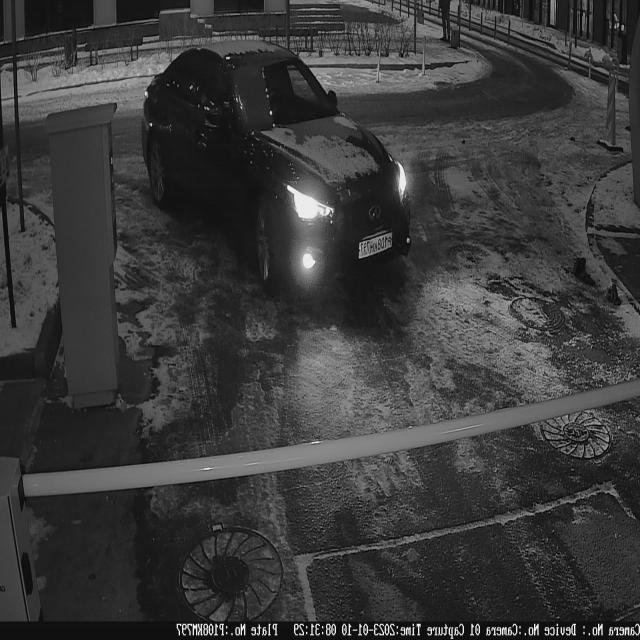car-plate-numbers: (358, 229, 395, 263)
